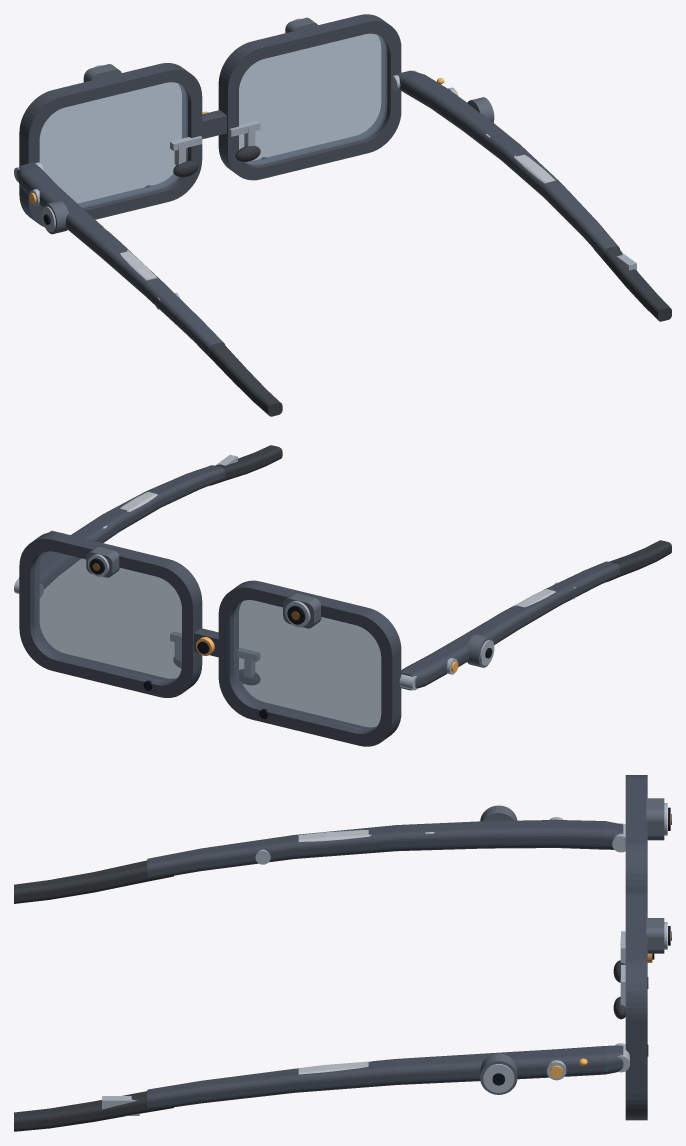
Rendered from SIGNLINK_Vision_Assembled.glb.
3 renders of one model, top to bottom at view 1: azimuth 30°, elevation 25°; view 2: azimuth 150°, elevation 25°; view 3: azimuth 270°, elevation 25°, orthographic. The views are drawn at different scales.
Visible parts, largest first — view 1: 06 | Right Optical Lens, 02 | Left Optical Lens, 05 | Right Front Frame Rim, 01 | Left Front Frame Rim, 16 | Right Temple Arm, 10 | Left Temple Arm, 11 | Left Temple Tip / Earpiece, 17 | Right Temple Tip / Earpiece, 09 | Central Nose Bridge; view 2: 06 | Right Optical Lens, 02 | Left Optical Lens, 01 | Left Front Frame Rim, 05 | Right Front Frame Rim, 10 | Left Temple Arm, 16 | Right Temple Arm, 17 | Right Temple Tip / Earpiece, 11 | Left Temple Tip / Earpiece, 22 | Primary Wide-Angle Scene Camera Camera Housing, 26 | Secondary Stereo Camera Camera Housing, 35 | Left Open-Ear Speaker Housing; view 3: 10 | Left Temple Arm, 16 | Right Temple Arm, 05 | Right Front Frame Rim, 11 | Left Temple Tip / Earpiece, 01 | Left Front Frame Rim, 17 | Right Temple Tip / Earpiece, 22 | Primary Wide-Angle Scene Camera Camera Housing, 26 | Secondary Stereo Camera Camera Housing, 12 | Left Rechargeable Battery Cell, 39 | Right Speaker Grille, 38 | Right Open-Ear Speaker Housing.
Part boxes in pixels (x1,y1,x2,y2): 06 | Right Optical Lens: (239, 33, 387, 165); 02 | Left Optical Lens: (39, 82, 187, 207); 05 | Right Front Frame Rim: (218, 14, 401, 180); 01 | Left Front Frame Rim: (19, 63, 202, 226); 16 | Right Temple Arm: (397, 70, 619, 257); 10 | Left Temple Arm: (16, 162, 224, 354); 11 | Left Temple Tip / Earpiece: (197, 343, 282, 416); 17 | Right Temple Tip / Earpiece: (593, 247, 671, 321); 09 | Central Nose Bridge: (202, 110, 226, 139); 06 | Right Optical Lens: (34, 551, 181, 682); 02 | Left Optical Lens: (233, 600, 381, 730); 01 | Left Front Frame Rim: (218, 580, 401, 746); 05 | Right Front Frame Rim: (19, 532, 202, 697); 10 | Left Temple Arm: (401, 561, 619, 690); 16 | Right Temple Arm: (19, 465, 225, 588); 17 | Right Temple Tip / Earpiece: (210, 445, 282, 485); 11 | Left Temple Tip / Earpiece: (606, 540, 671, 582); 22 | Primary Wide-Angle Scene Camera Camera Housing: (283, 593, 321, 628); 26 | Secondary Stereo Camera Camera Housing: (86, 547, 119, 577); 35 | Left Open-Ear Speaker Housing: (467, 634, 493, 667); 10 | Left Temple Arm: (147, 820, 623, 876); 16 | Right Temple Arm: (147, 1045, 623, 1108); 05 | Right Front Frame Rim: (625, 891, 647, 1120); 11 | Left Temple Tip / Earpiece: (14, 860, 173, 903); 01 | Left Front Frame Rim: (625, 775, 647, 891); 17 | Right Temple Tip / Earpiece: (14, 1091, 173, 1131); 22 | Primary Wide-Angle Scene Camera Camera Housing: (646, 798, 664, 840); 26 | Secondary Stereo Camera Camera Housing: (646, 918, 664, 953); 12 | Left Rechargeable Battery Cell: (298, 830, 434, 841); 39 | Right Speaker Grille: (483, 1064, 514, 1092); 38 | Right Open-Ear Speaker Housing: (480, 1053, 517, 1094).
Size of the model in its own units: 0.138 by 0.0407 by 0.1479.
